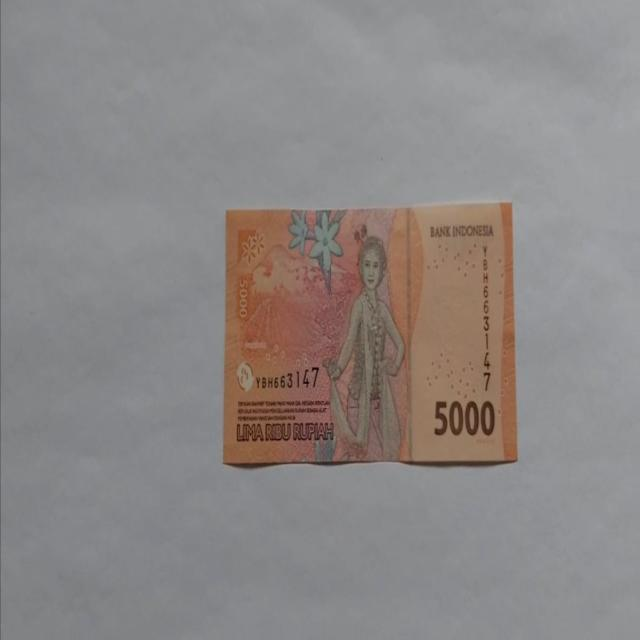lima ribu rupiah: (222, 201, 518, 467), (322, 234, 406, 462)
